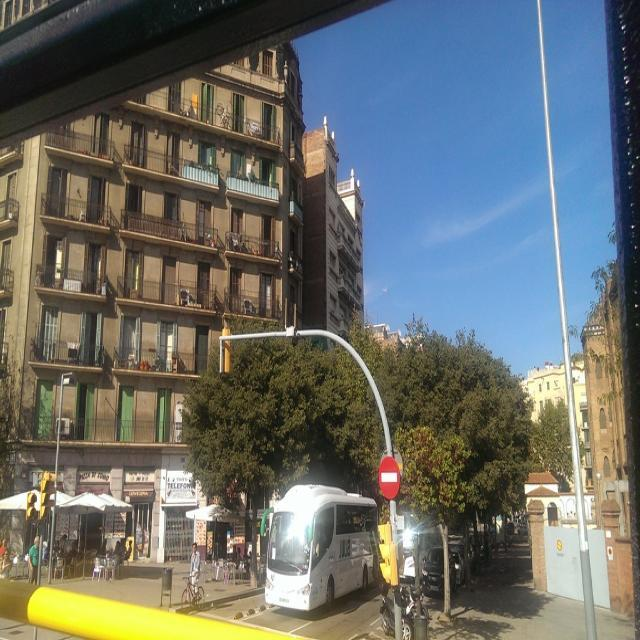off traffic light: (376, 524, 399, 586), (39, 479, 51, 520), (25, 492, 38, 520)
road_sign: (378, 456, 401, 500)
